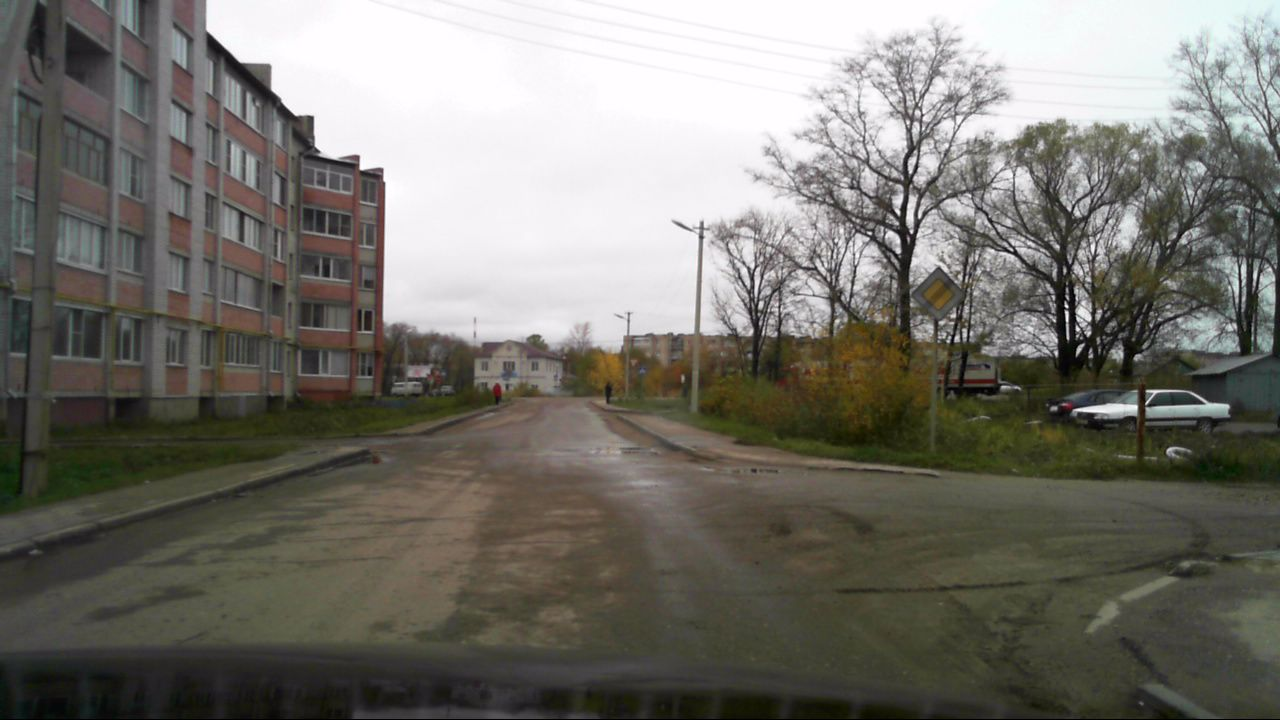main road: (910, 265, 965, 322)
